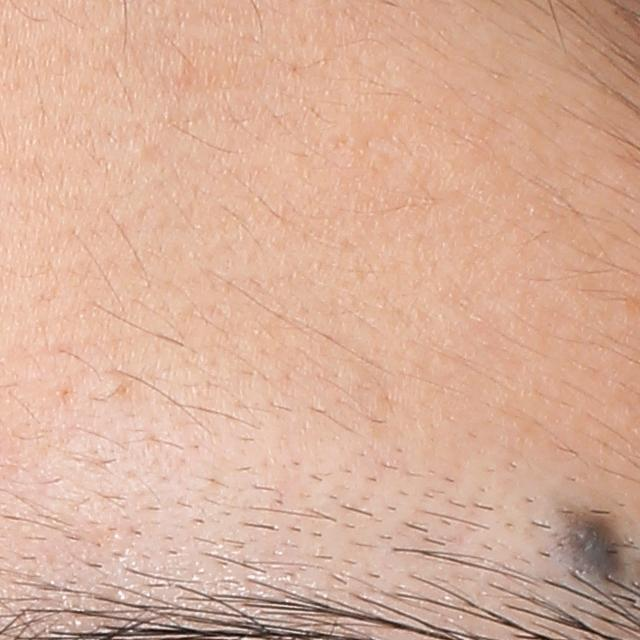nevus: (566, 504, 624, 588)
